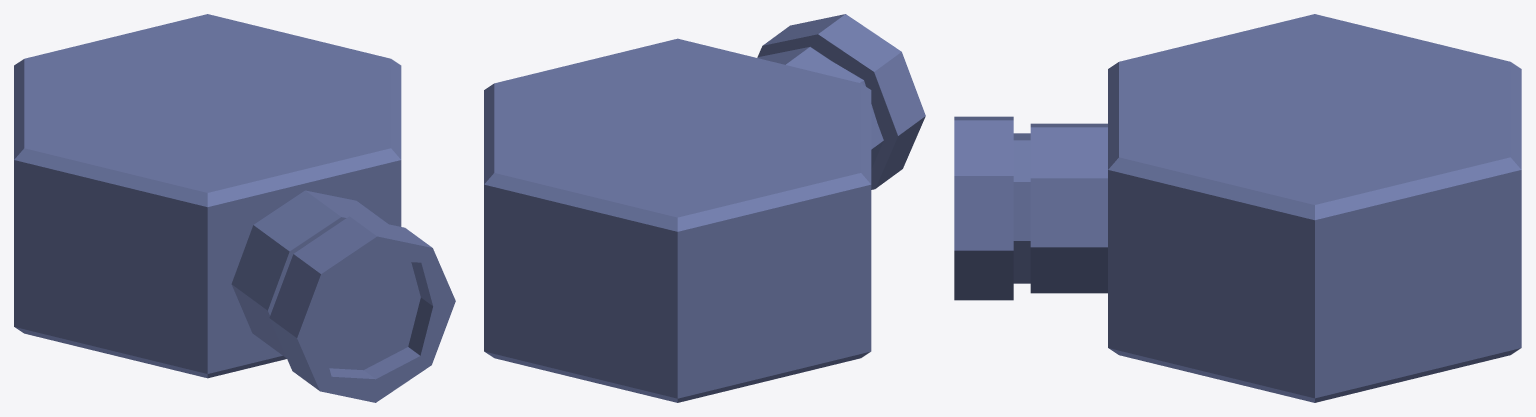
File: Encaixe_Cilindro.fbx
3 renders of one model, left to right at view 1: azimuth 30°, elevation 25°; view 2: azimuth 150°, elevation 25°; view 3: azimuth 270°, elevation 25°, orthographic. The views are drawn at different scales.
Parts seen in each view (by area): view 1: Encaixa_Cilindro; view 2: Encaixa_Cilindro; view 3: Encaixa_Cilindro.
Boxes of the visible parts, x1=… form: Encaixa_Cilindro: x1=14, y1=14, x2=455, y2=402; Encaixa_Cilindro: x1=484, y1=14, x2=925, y2=402; Encaixa_Cilindro: x1=954, y1=14, x2=1521, y2=402.
Size of the model in its own units: 0.947 by 0.4333 by 1.12.
